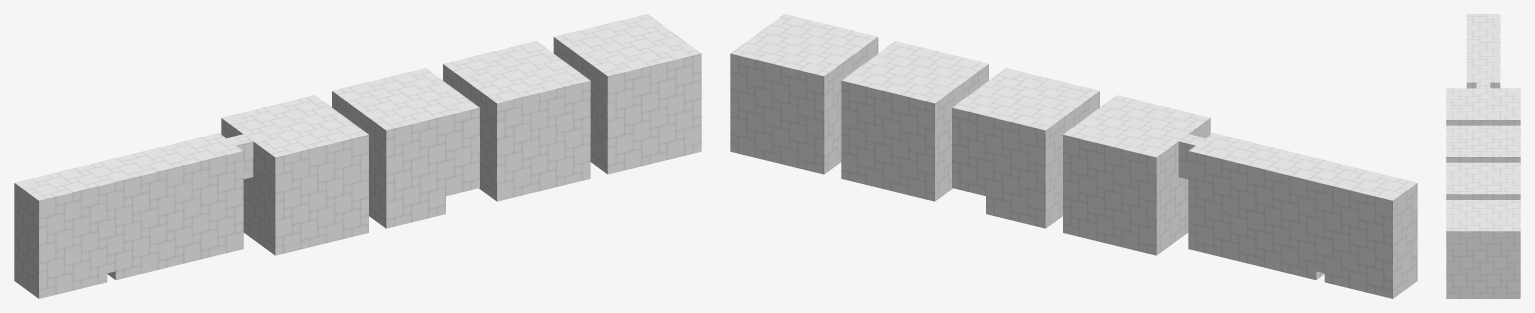
Rendered from Level_T_1.FBX.
3 renders of one model, left to right at view 1: azimuth 30°, elevation 25°; view 2: azimuth 150°, elevation 25°; view 3: azimuth 270°, elevation 25°, orthographic. The views are drawn at different scales.
Visible parts, largest first — view 1: Box003; view 2: Box003; view 3: Box003.
Part boxes in pixels (bbox=[...]): Box003: bbox=[14, 14, 701, 298]; Box003: bbox=[730, 14, 1417, 298]; Box003: bbox=[1446, 14, 1520, 298].
Bounding box in the file's own units: 9.65 × 1.4 × 1.4.
